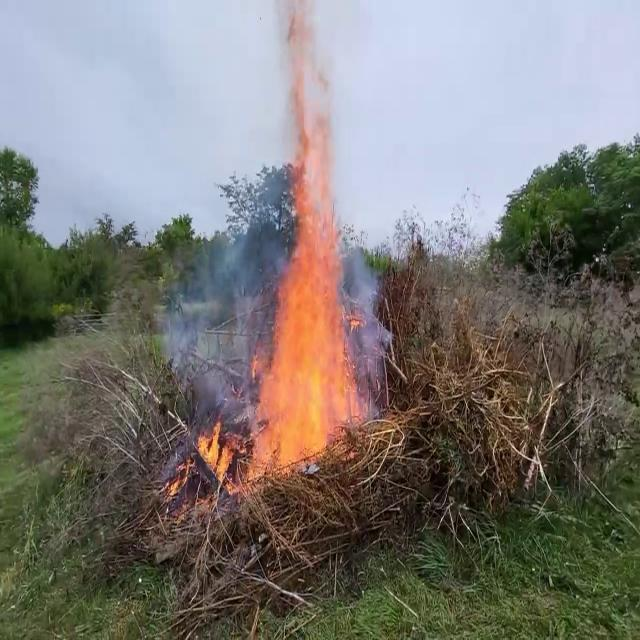Fire: (240, 142, 368, 476), (171, 417, 235, 506), (192, 418, 234, 502)
